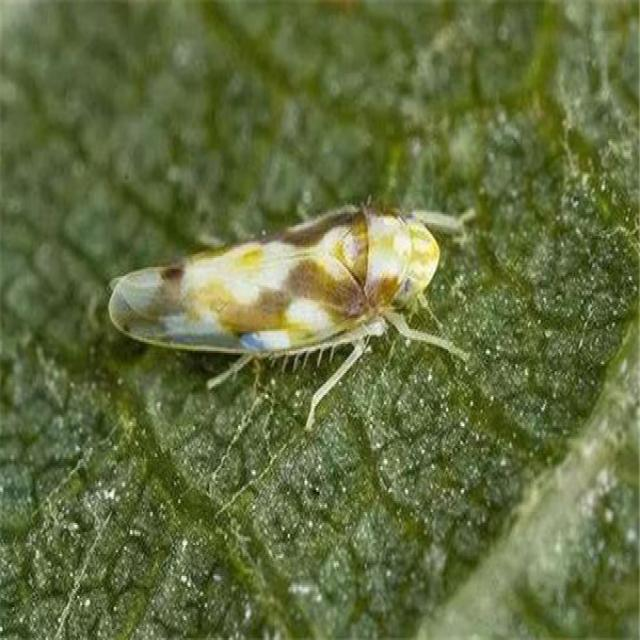Yechan: (99, 188, 478, 438)
